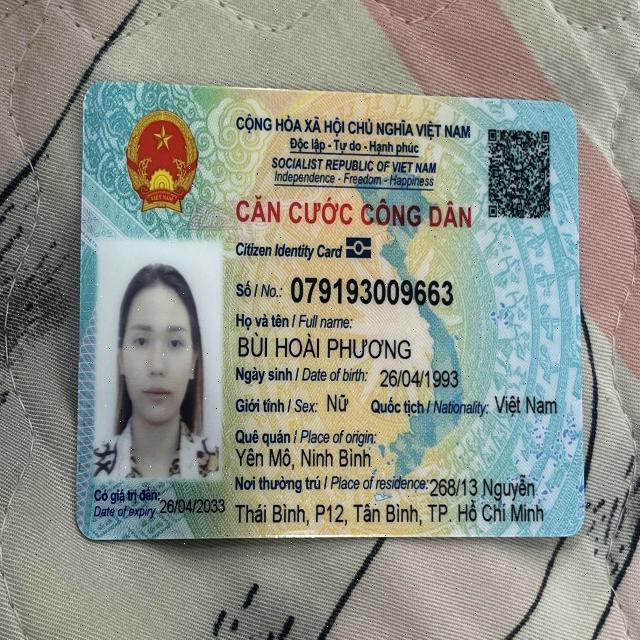current_place: (233, 498, 545, 528), (428, 476, 536, 501)
dob: (375, 364, 460, 391)
expire_date: (160, 492, 229, 519)
gender: (325, 386, 356, 418)
id: (286, 268, 455, 309)
name: (236, 325, 416, 361)
nationality: (490, 391, 558, 417)
origin_place: (237, 445, 372, 471)
qr: (485, 122, 554, 226)
